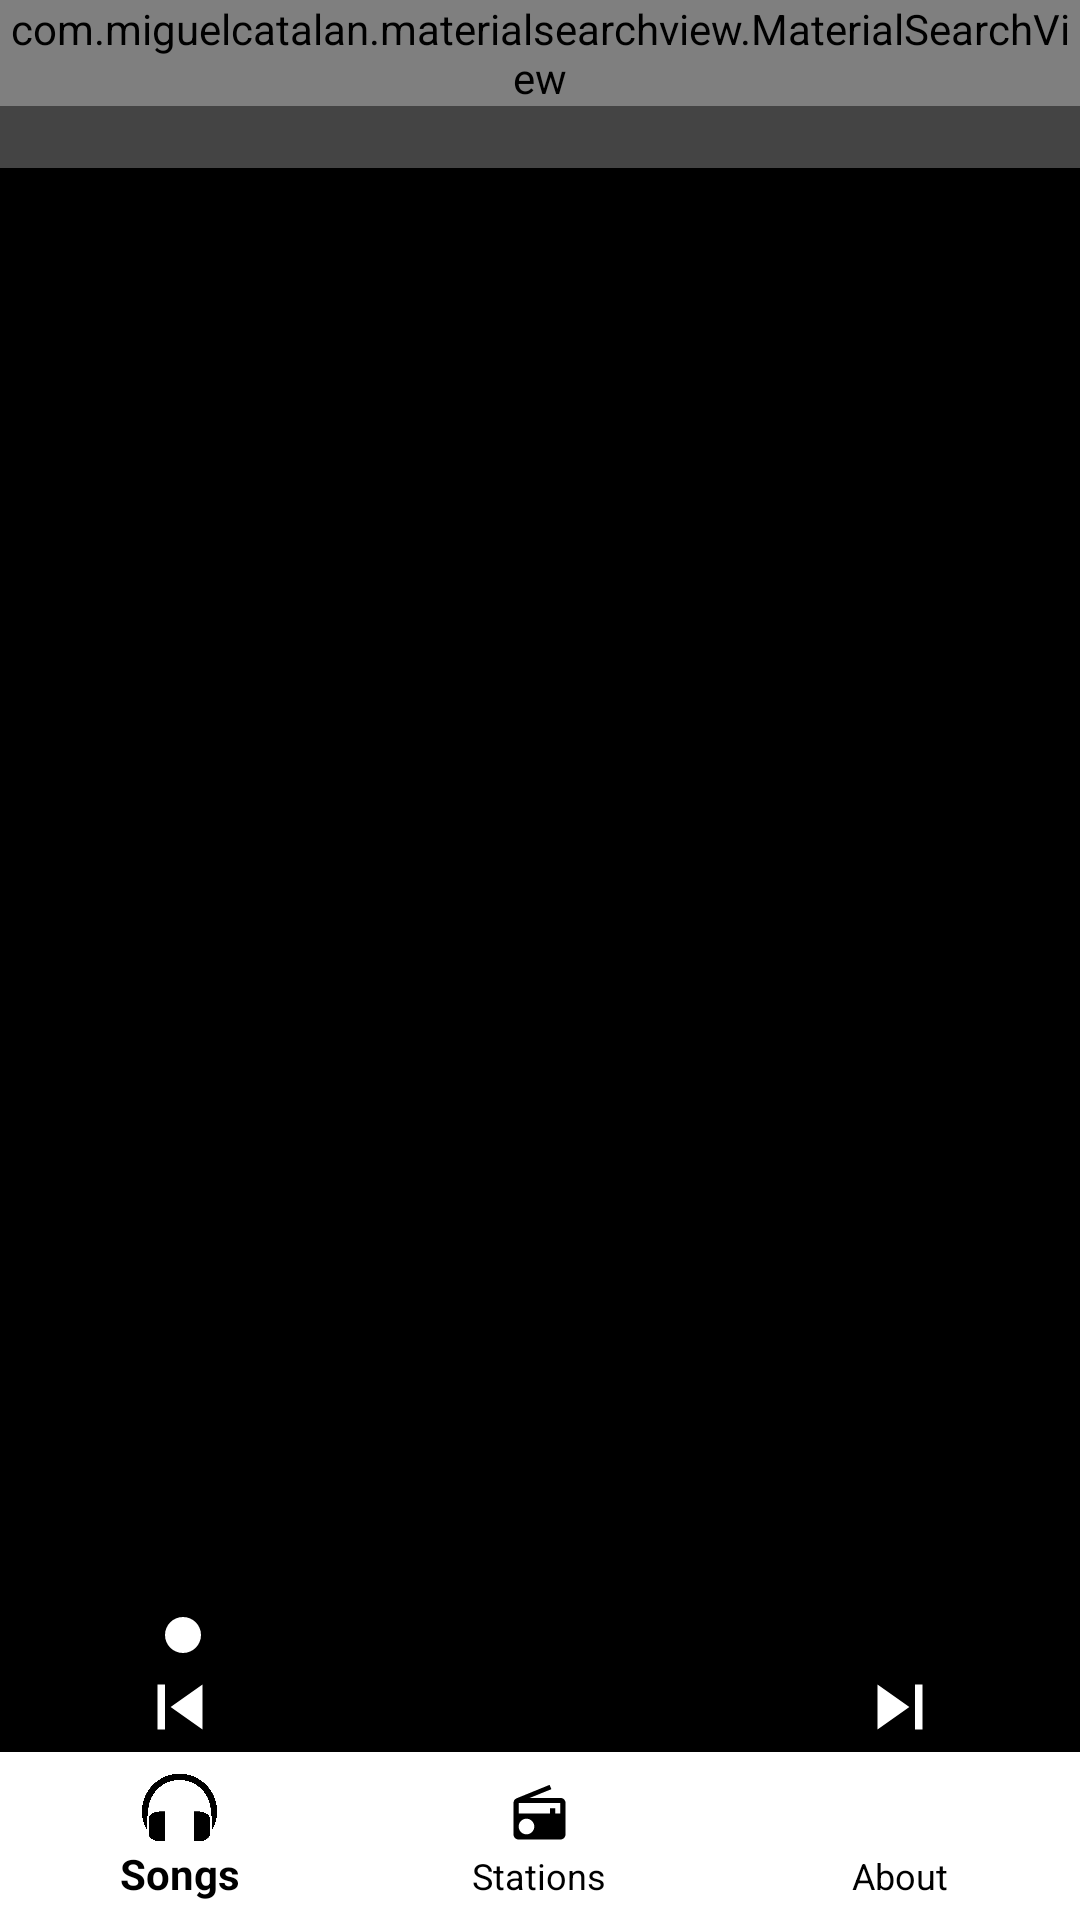

Icon bounding boxes for this 1080 x 1920 phone screenshot, format [x1=x1, y1=y1, x2=x2, y2=y2]:
next: [x1=877, y1=1684, x2=923, y2=1730]
prev: [x1=157, y1=1684, x2=203, y2=1730]
